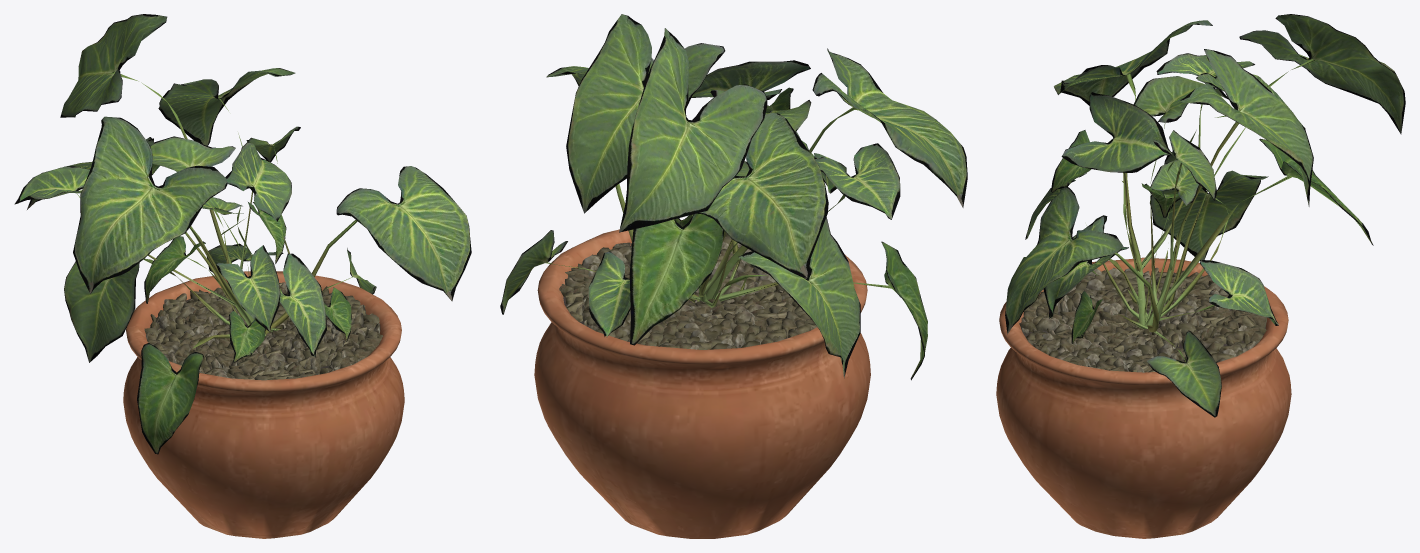
File: potted_plant_02.glb
The picture shows the model from 3 angles, left to right: view 1: azimuth 30°, elevation 25°; view 2: azimuth 150°, elevation 25°; view 3: azimuth 270°, elevation 25°; orthographic projection. The views are drawn at different scales.
Parts seen in each view (by area): view 1: potted_plant_02_leaves, potted_plant_02_pot; view 2: potted_plant_02_leaves, potted_plant_02_pot; view 3: potted_plant_02_pot, potted_plant_02_leaves.
Boxes of the visible parts, x1=… form: potted_plant_02_leaves: x1=14, y1=14, x2=471, y2=454; potted_plant_02_pot: x1=123, y1=271, x2=404, y2=538; potted_plant_02_leaves: x1=500, y1=14, x2=967, y2=380; potted_plant_02_pot: x1=534, y1=220, x2=870, y2=538; potted_plant_02_pot: x1=996, y1=257, x2=1291, y2=538; potted_plant_02_leaves: x1=1005, y1=14, x2=1405, y2=417.
Size of the model in its own units: 0.7009 by 0.8401 by 0.6574.
2 materials, 2 textured.
